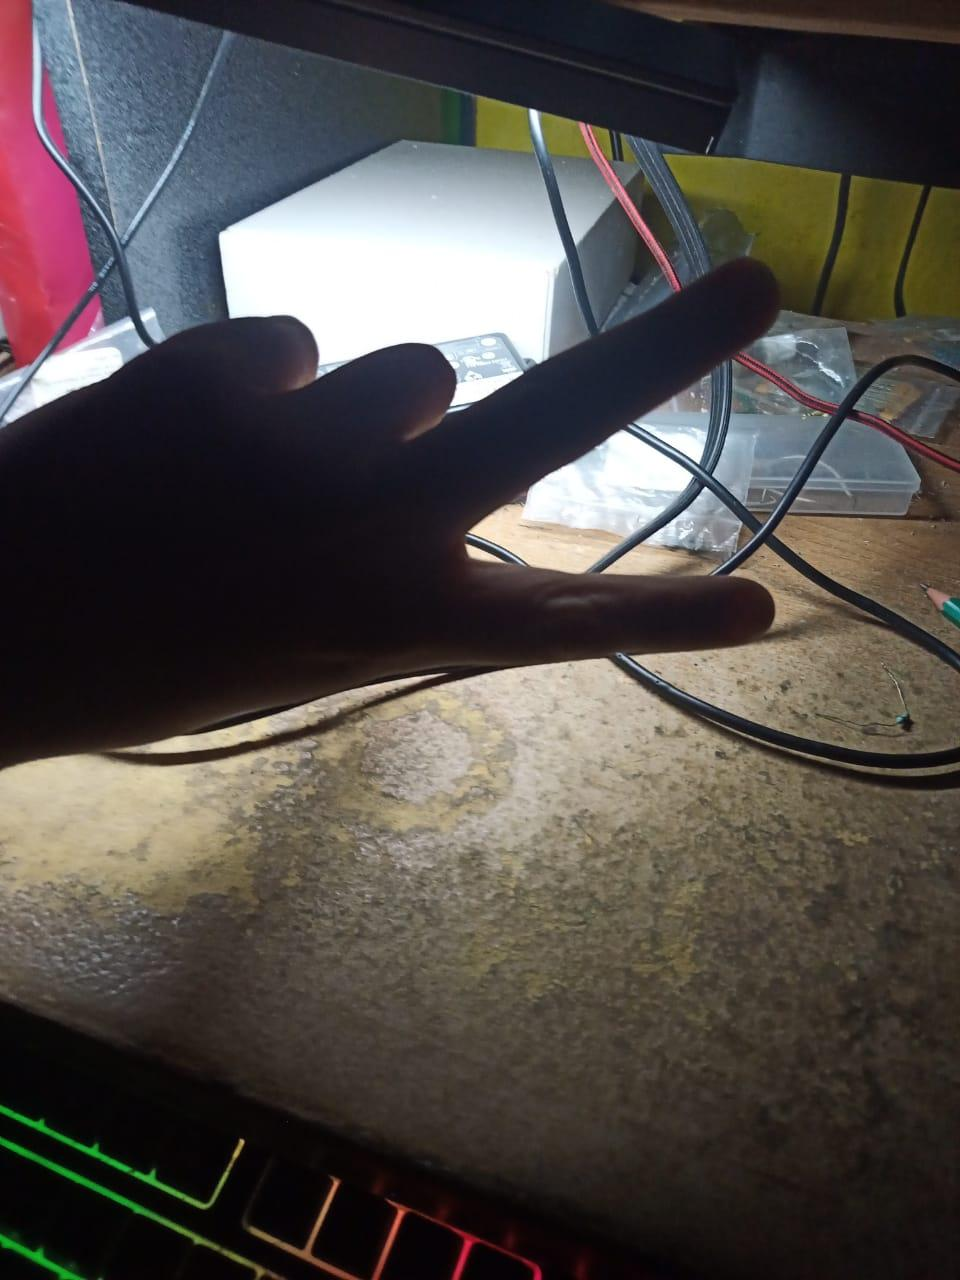Scissor: (0, 237, 823, 776)
